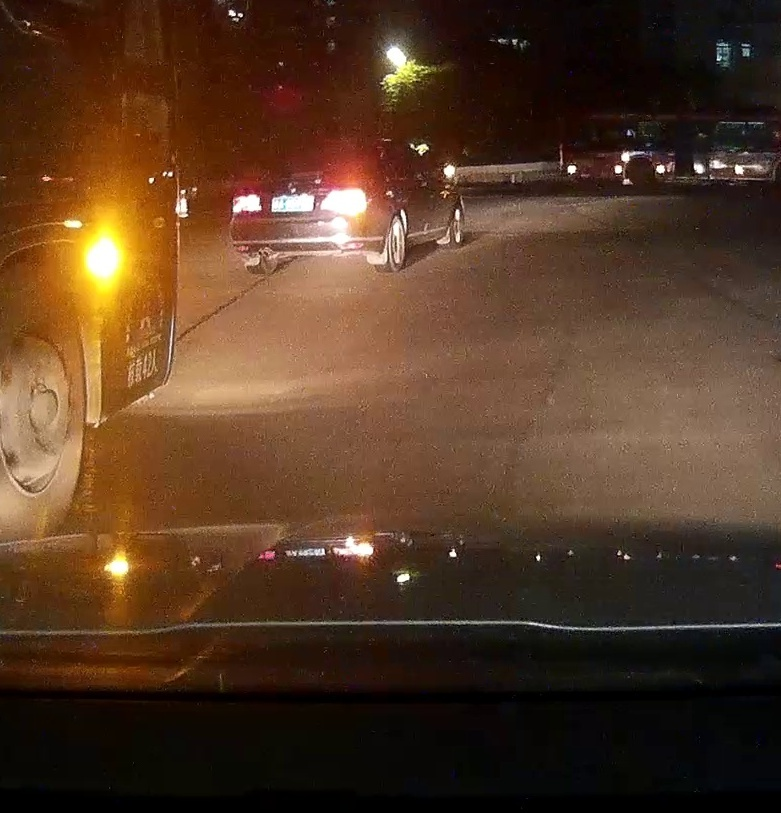L_light: (231, 191, 266, 215)
R_light: (319, 189, 368, 215)
T_light: (290, 146, 313, 152)
night-no: (215, 143, 373, 273)
